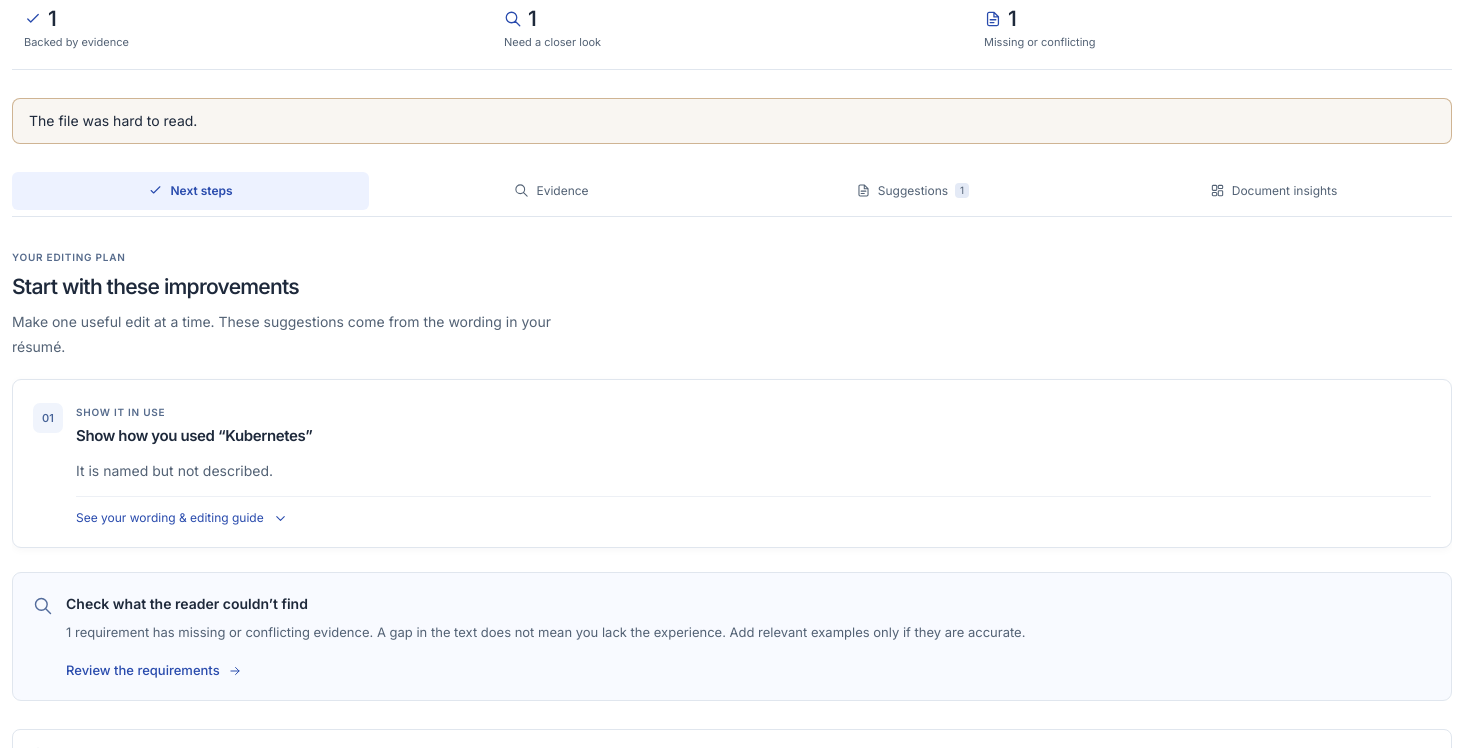
Test: AnalysisResults › filters requirements by priority without changing the original findings
The image size is (1464, 748).
Click the tab "Evidence": (552, 190) x1=373 y1=172 x2=730 y2=210
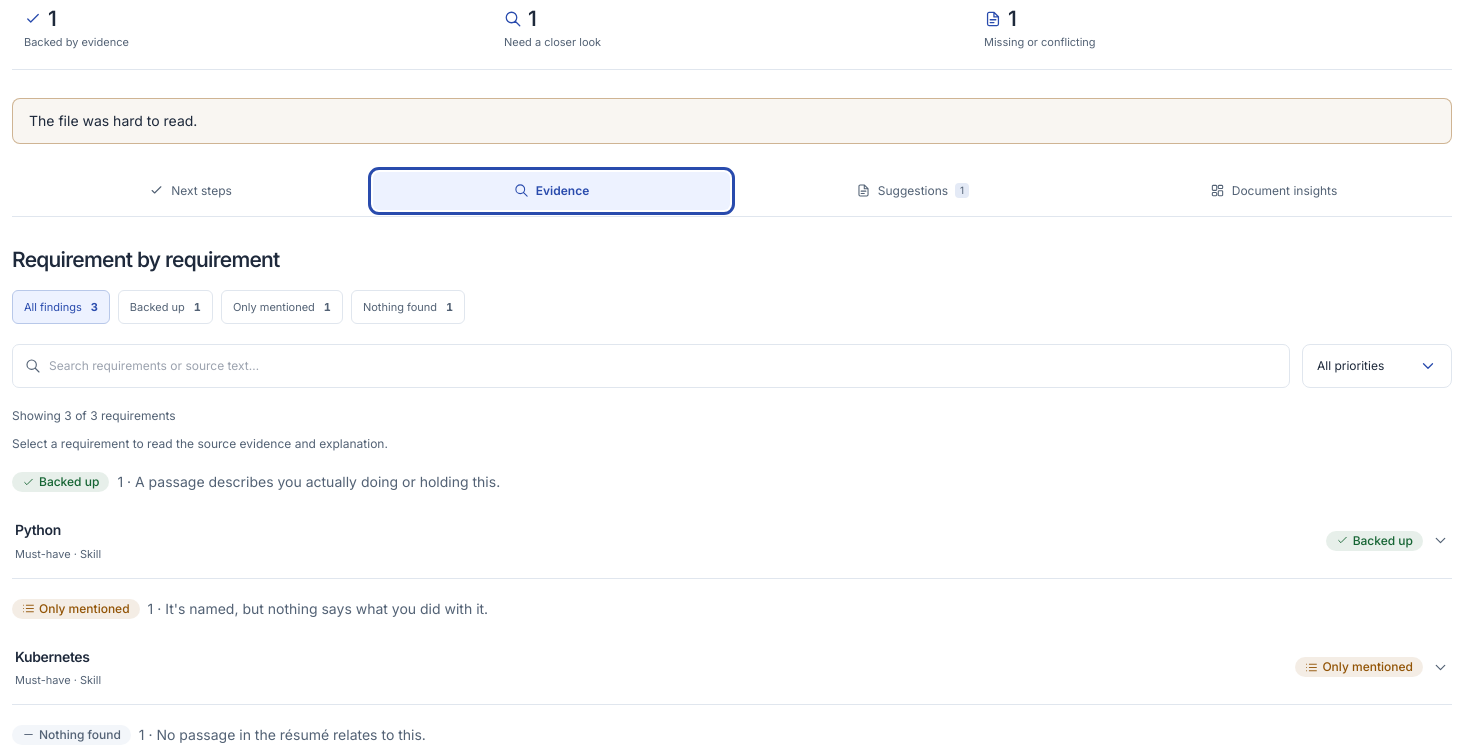
Click the dropdown named "Requirement priority": (1377, 366) x1=1302 y1=344 x2=1452 y2=388
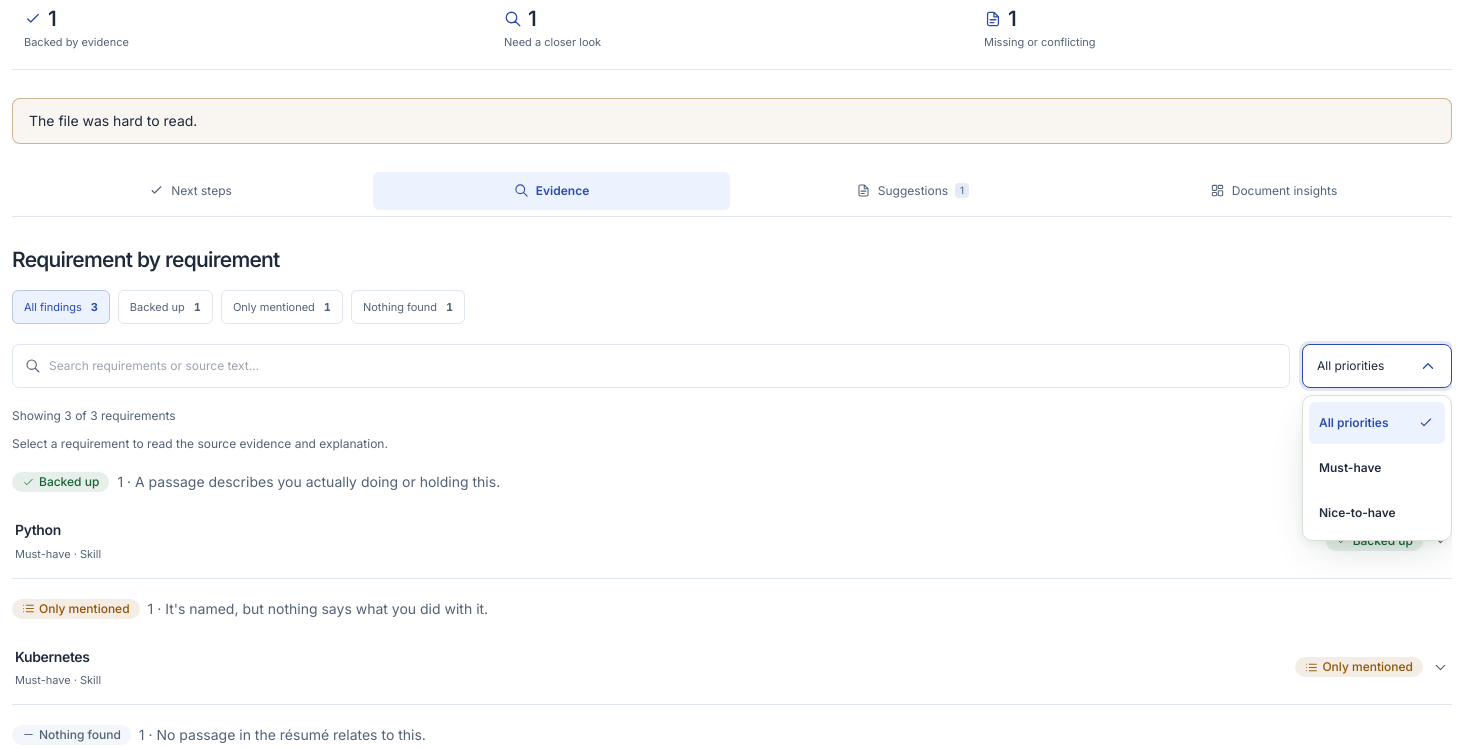
Click the option "Nice-to-have": (1357, 513) x1=1319 y1=505 x2=1396 y2=520
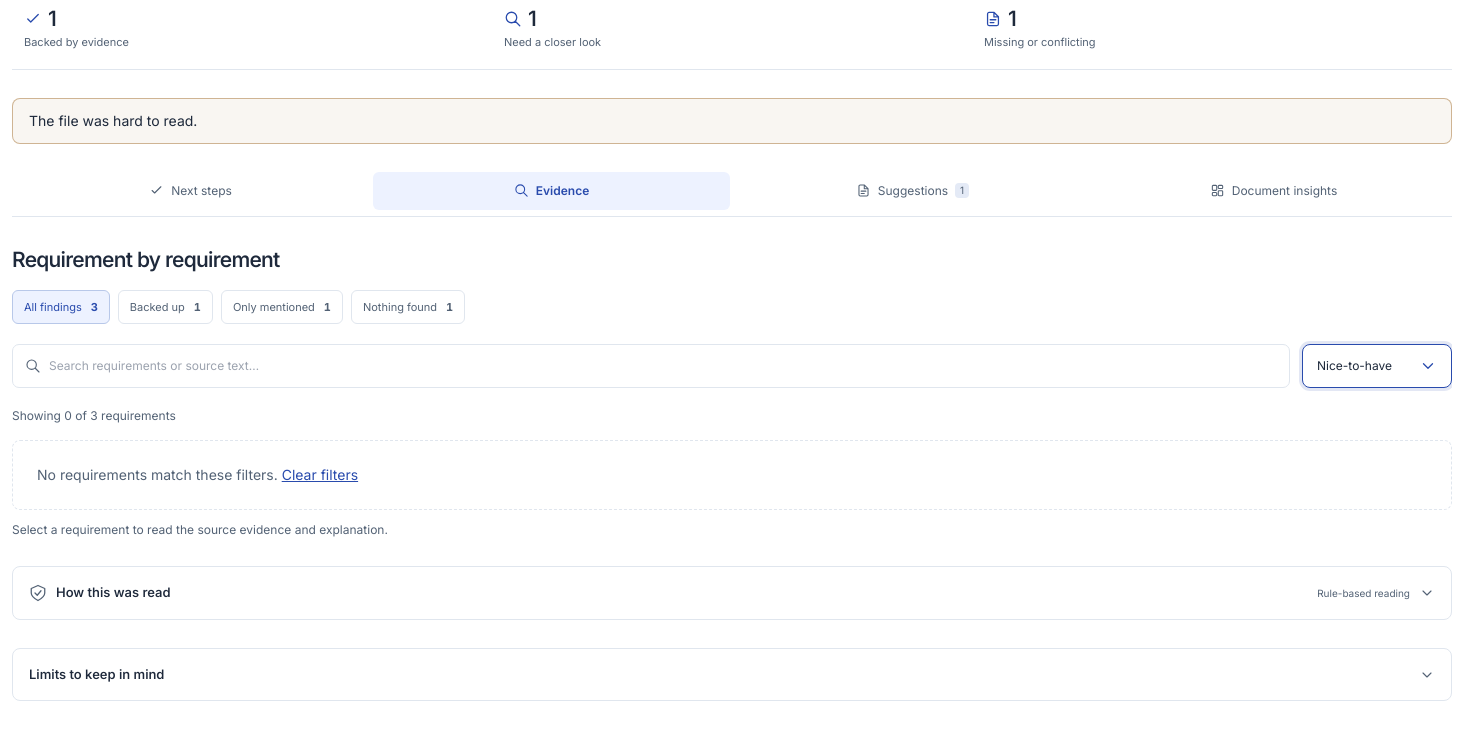
Now the text "Showing 0 of 3 requirements" is shown, box x1=12 y1=408 x2=176 y2=423
Click the dropdown named "Requirement priority": (1377, 366) x1=1302 y1=344 x2=1452 y2=388
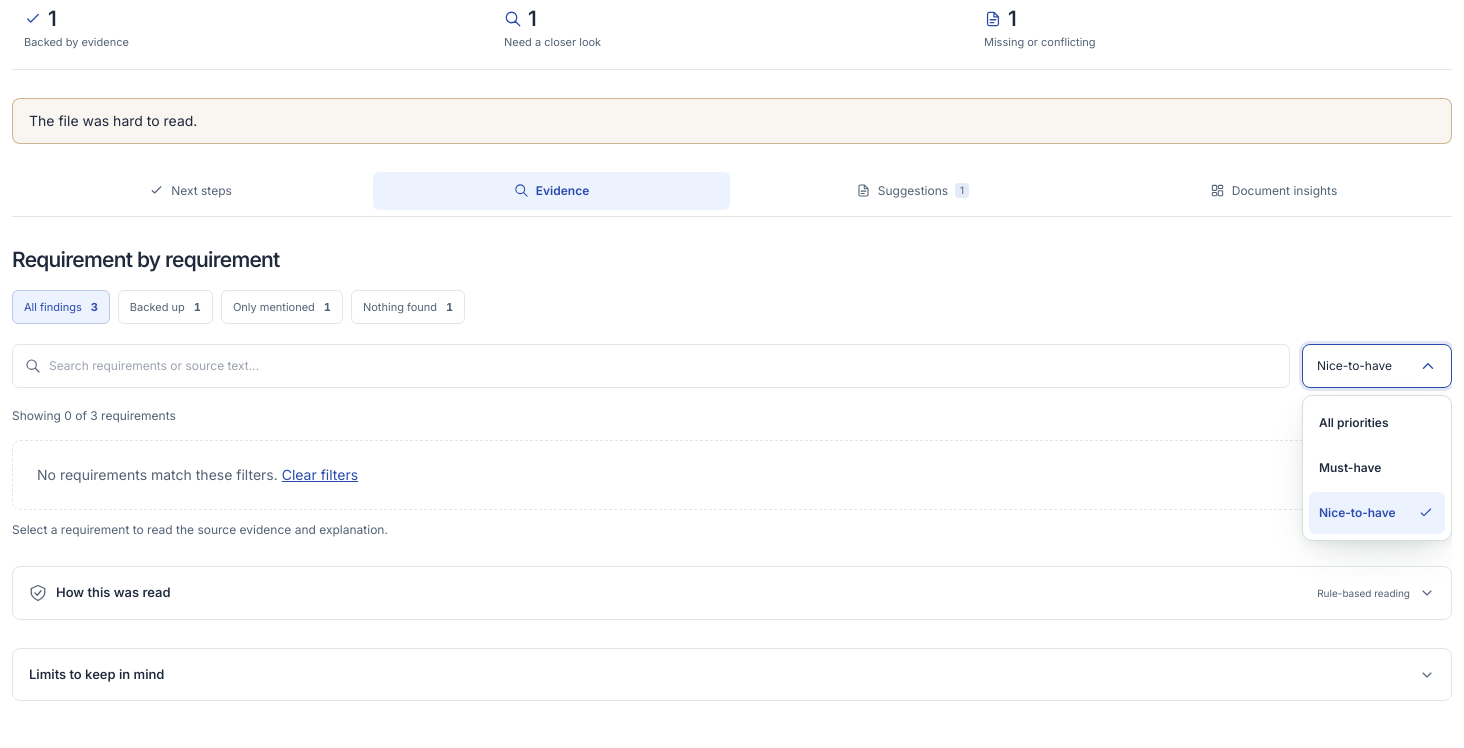
Click the option "Must-have": (1350, 468) x1=1319 y1=460 x2=1381 y2=475
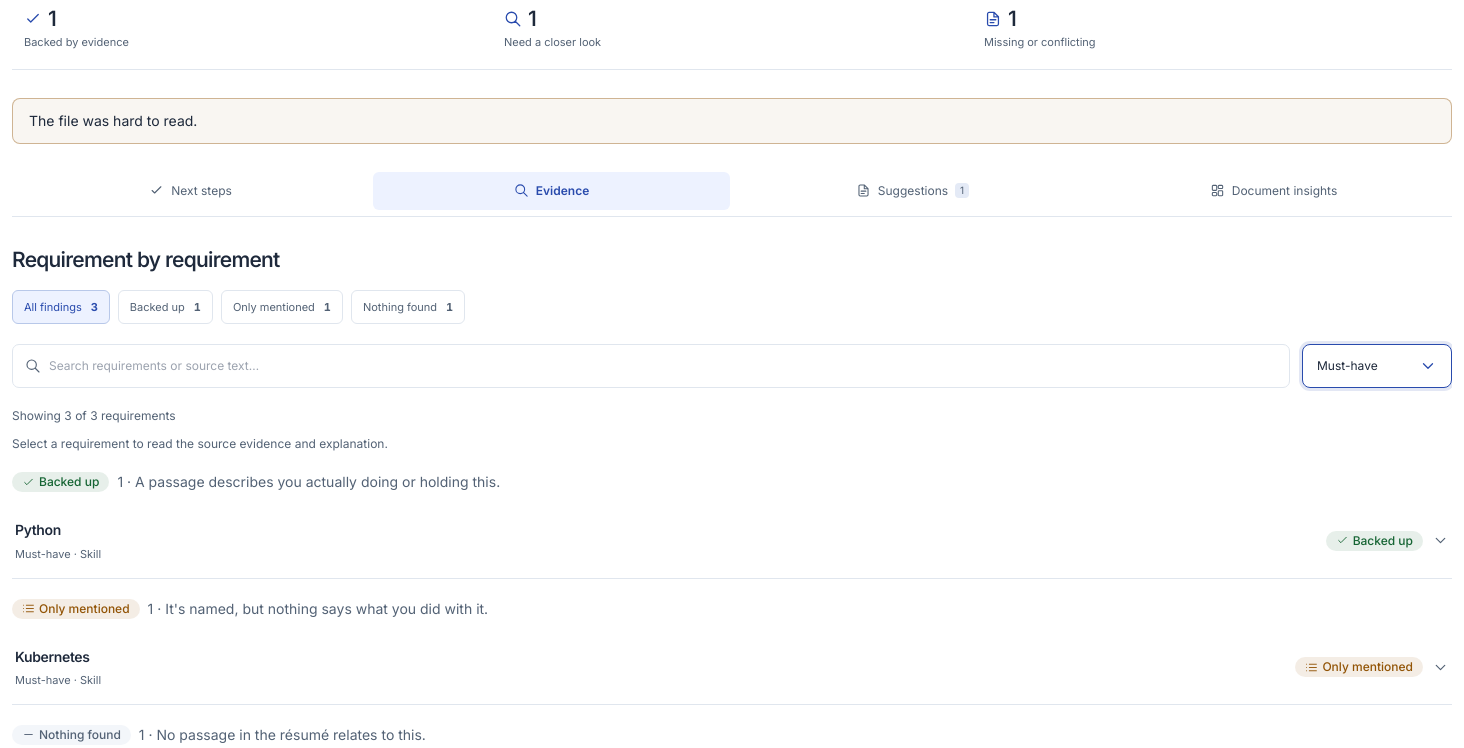
Now the text "Showing 3 of 3 requirements" is shown, box x1=12 y1=408 x2=176 y2=423
